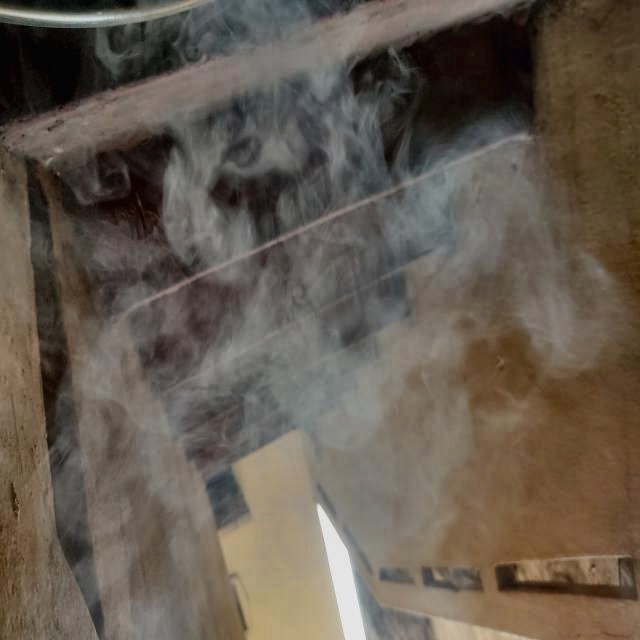smoke: (226, 155, 510, 516)
